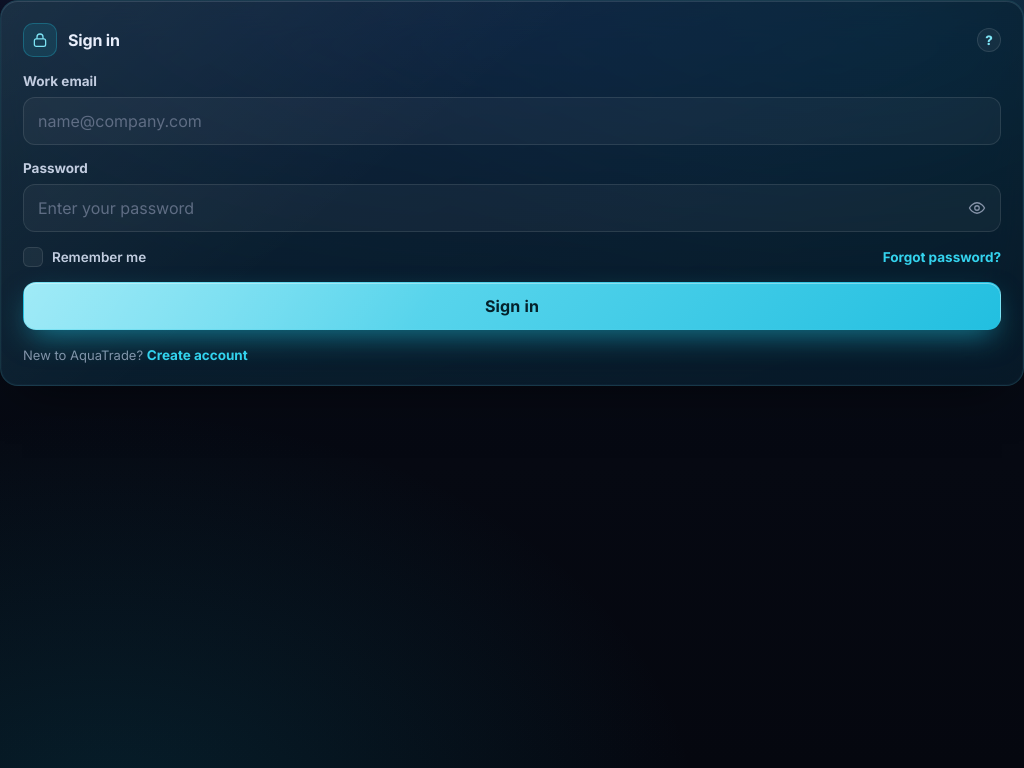
LoginFormCard (prototype) › shows validation errors on empty submit
Click the button "Sign in". click: (512, 306)
box: [23, 282, 1001, 330]
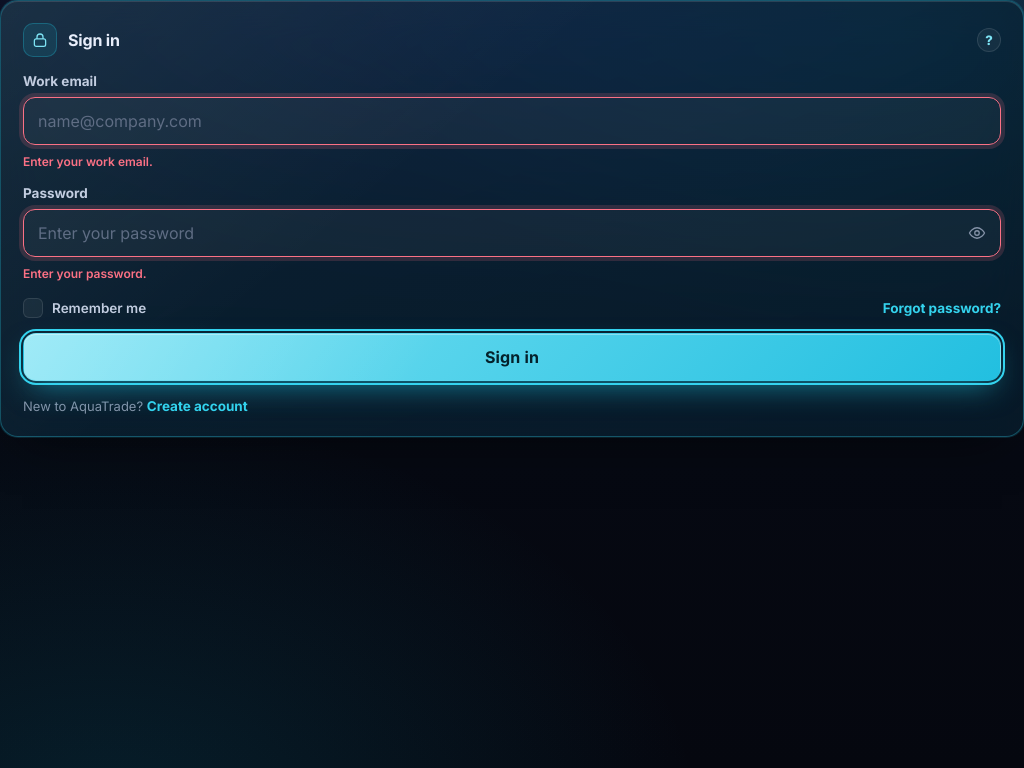
Expected: the text "Enter your work email." is shown, [23, 154, 153, 169]
Expected: the text "Enter your password." is shown, [23, 266, 147, 281]
